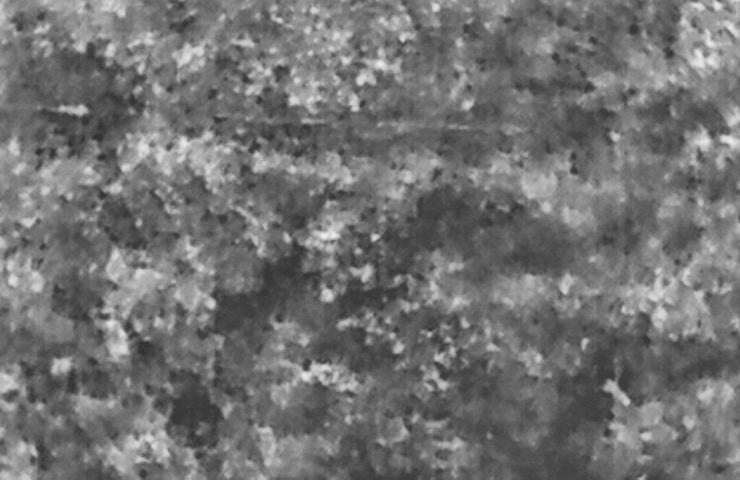landmines: (305, 216, 349, 256)
